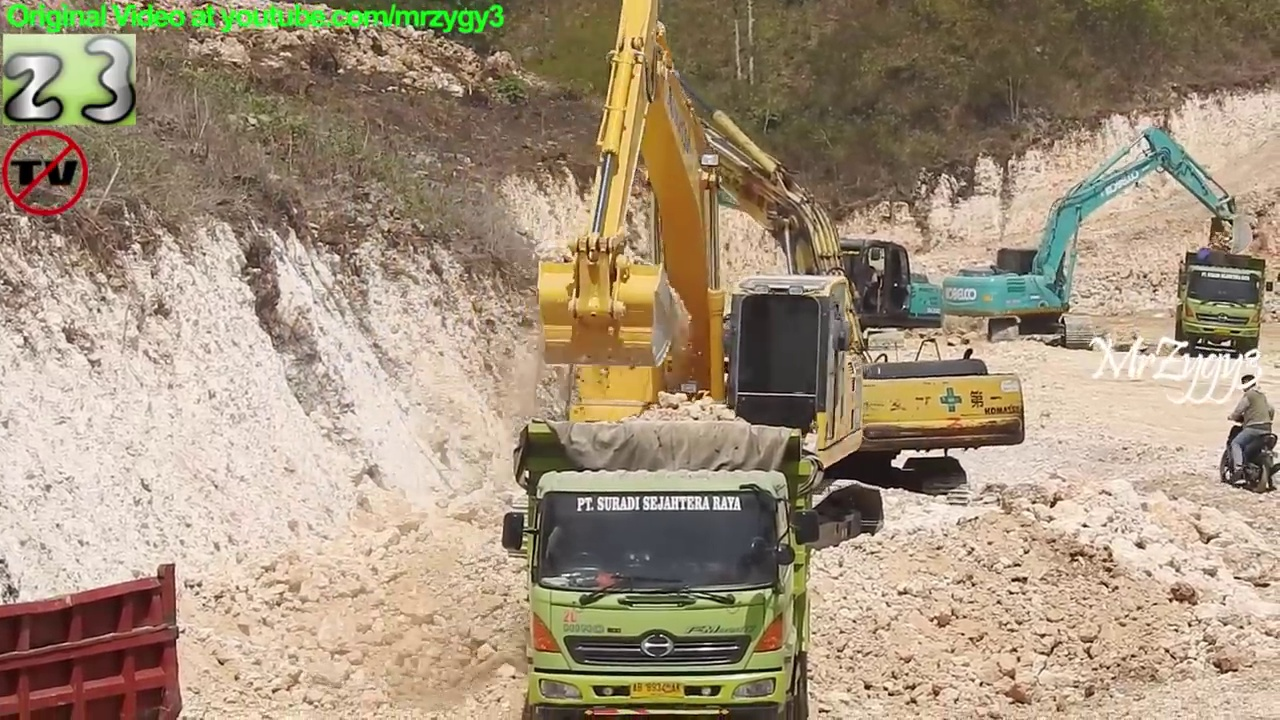excavator: (499, 1, 892, 574), (607, 34, 1033, 523), (937, 121, 1260, 352), (629, 136, 951, 358)
truck: (496, 414, 828, 720), (1, 558, 191, 720), (1172, 244, 1275, 357)
